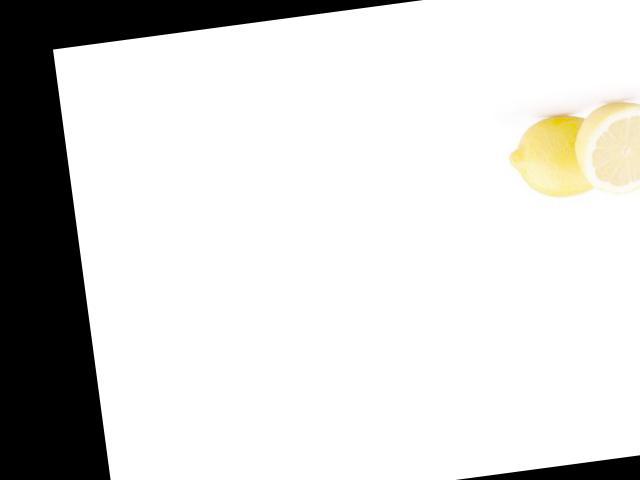lemon: (501, 96, 613, 211)
